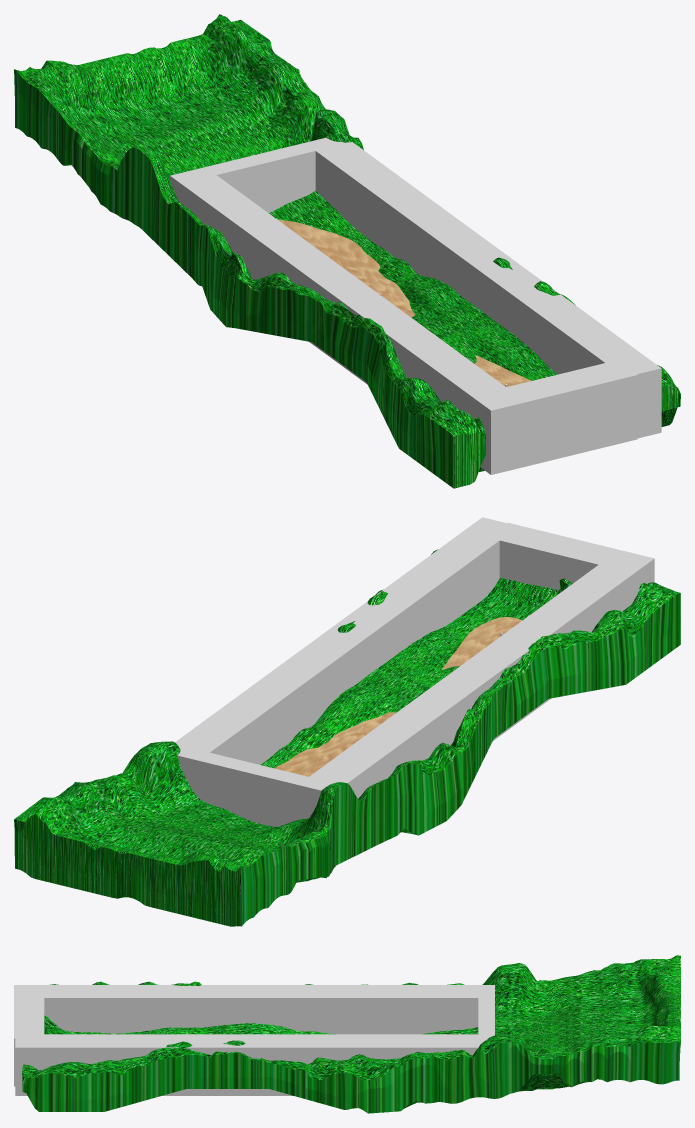
File: firstLevel.glb
3 renders of one model, top to bottom at view 1: azimuth 30°, elevation 25°; view 2: azimuth 150°, elevation 25°; view 3: azimuth 270°, elevation 25°, orthographic. The views are drawn at different scales.
Visible parts, largest first — view 1: ground, wall, roud; view 2: ground, wall, roud; view 3: ground, wall.
Part boxes in pixels (box(x1,y1,x2,y2)): ground: box(14, 14, 680, 488); wall: box(170, 137, 661, 474); roud: box(278, 219, 531, 386); ground: box(14, 549, 680, 926); wall: box(175, 517, 654, 826); roud: box(274, 617, 522, 776); ground: box(22, 955, 680, 1113); wall: box(14, 985, 494, 1095).
Size of the model in its own units: 54.94 by 25.99 by 184.
Materials: 2 (2 with a texture image).
